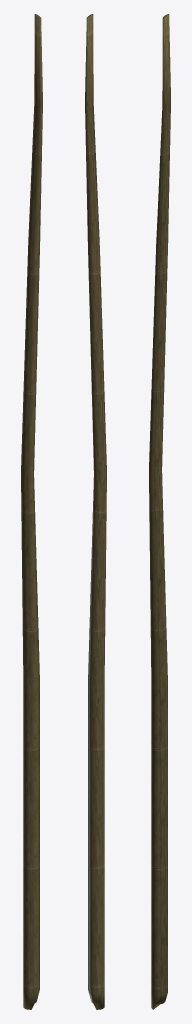
Rendered from tool_rod.glb.
3 views of the same model, side by side, from view 1: azimuth 30°, elevation 25°; view 2: azimuth 150°, elevation 25°; view 3: azimuth 330°, elevation 25° (orthographic).
Visible parts, largest first — view 1: tool_rod; view 2: tool_rod; view 3: tool_rod.
Boxes of the visible parts, box(x1,y1,x2,y2) form: tool_rod: box(21, 14, 42, 1009); tool_rod: box(85, 14, 106, 1009); tool_rod: box(149, 14, 170, 1009).
Bounding box in the file's own units: 0.0447 × 2.2 × 0.0328.
Materials: 1 (1 with a texture image).
